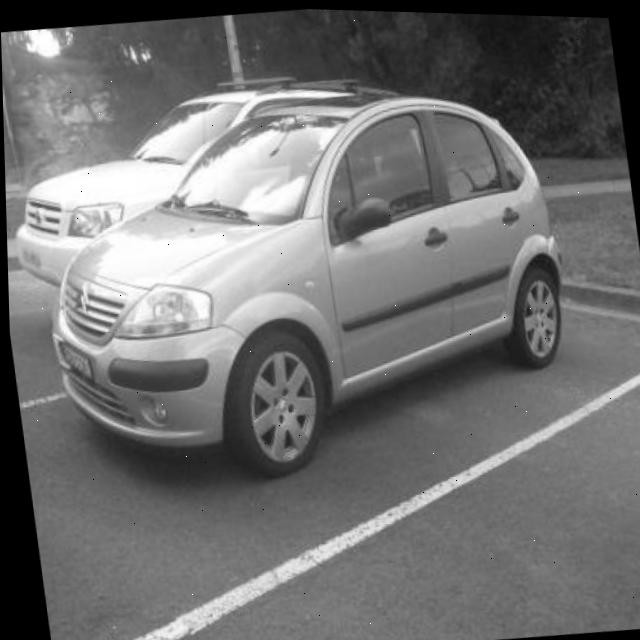car: (15, 57, 582, 503)
